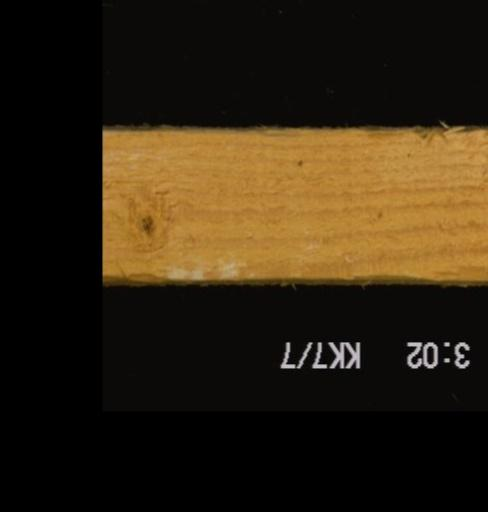sound_knot: (138, 213, 155, 236)
